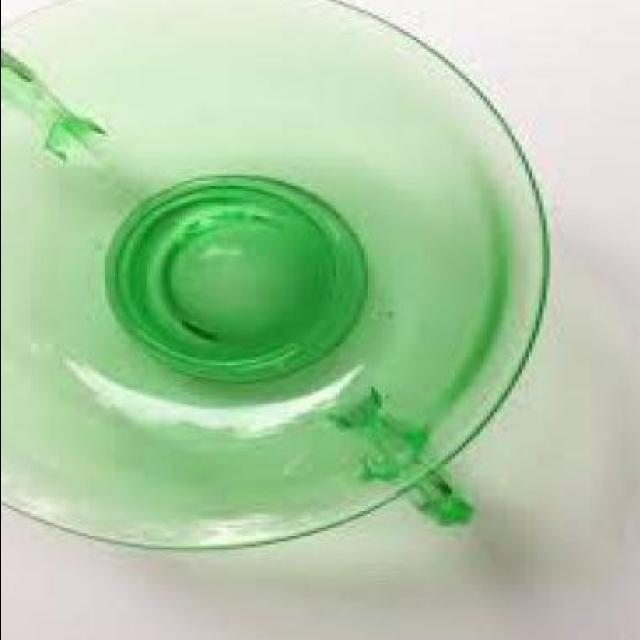kaca: (0, 0, 550, 553)
